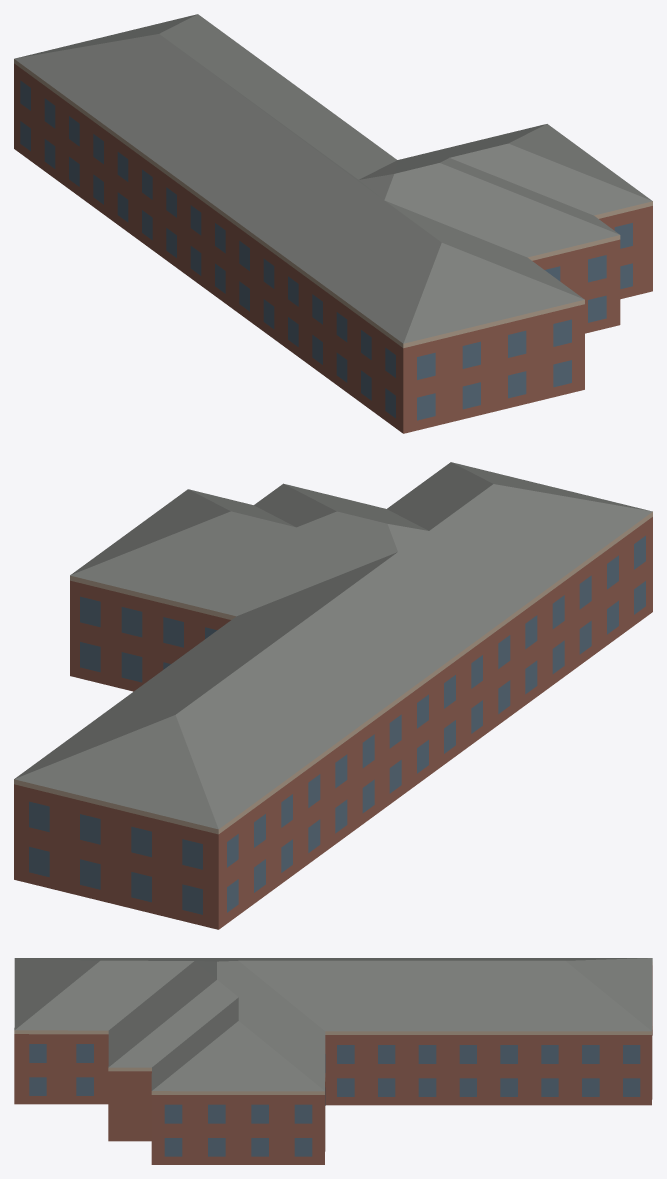
Rendered from dc-au-gray-hall.glb.
3 views of the same model, one above another, from view 1: azimuth 30°, elevation 25°; view 2: azimuth 150°, elevation 25°; view 3: azimuth 270°, elevation 25° (orthographic). The views are drawn at different scales.
Parts seen in each view (by area): view 1: Gray Hall; view 2: Gray Hall; view 3: Gray Hall.
Part boxes in pixels (x1,y1,x2,y2): Gray Hall: (14,14,652,433); Gray Hall: (14,462,652,929); Gray Hall: (14,958,652,1164).
Bounding box in the file's own units: 24.86 × 10.06 × 50.24.
